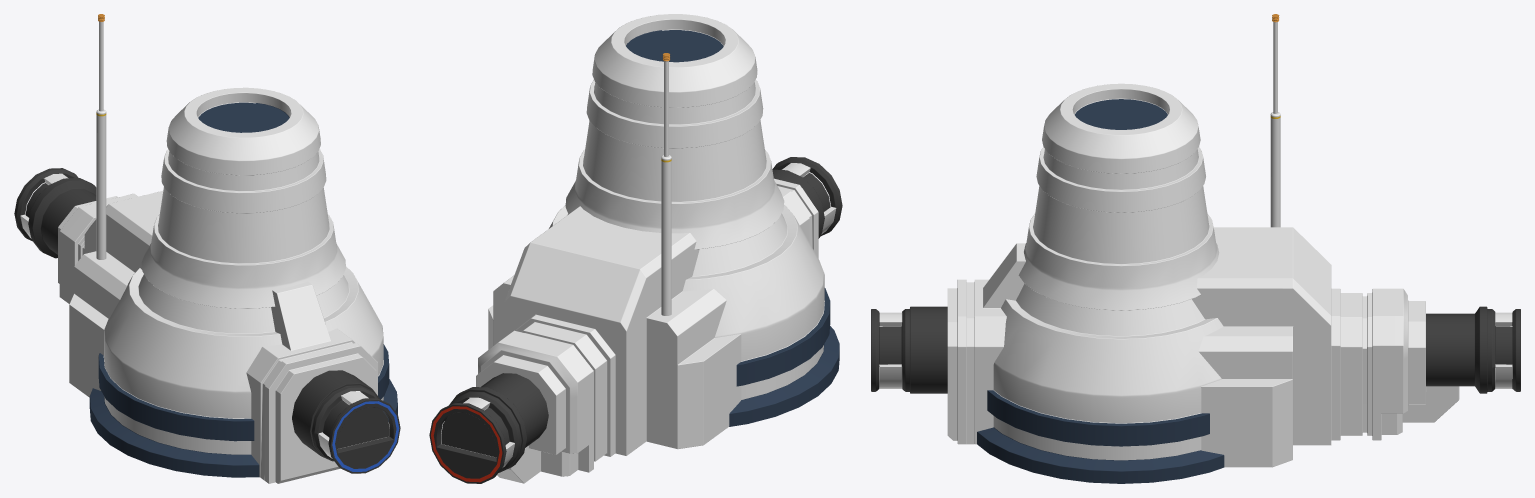
File: Smelter.fbx
The picture shows the model from 3 angles, left to right: view 1: azimuth 30°, elevation 25°; view 2: azimuth 150°, elevation 25°; view 3: azimuth 270°, elevation 25°; orthographic projection. The views are drawn at different scales.
Parts seen in each view (by area): view 1: Smelter; view 2: Smelter; view 3: Smelter.
Boxes of the visible parts, x1,y1,x2,y2 form: Smelter: [14, 14, 400, 483]; Smelter: [429, 14, 842, 483]; Smelter: [871, 14, 1520, 483].
Size of the model in its own units: 97.58 by 125 by 200.
